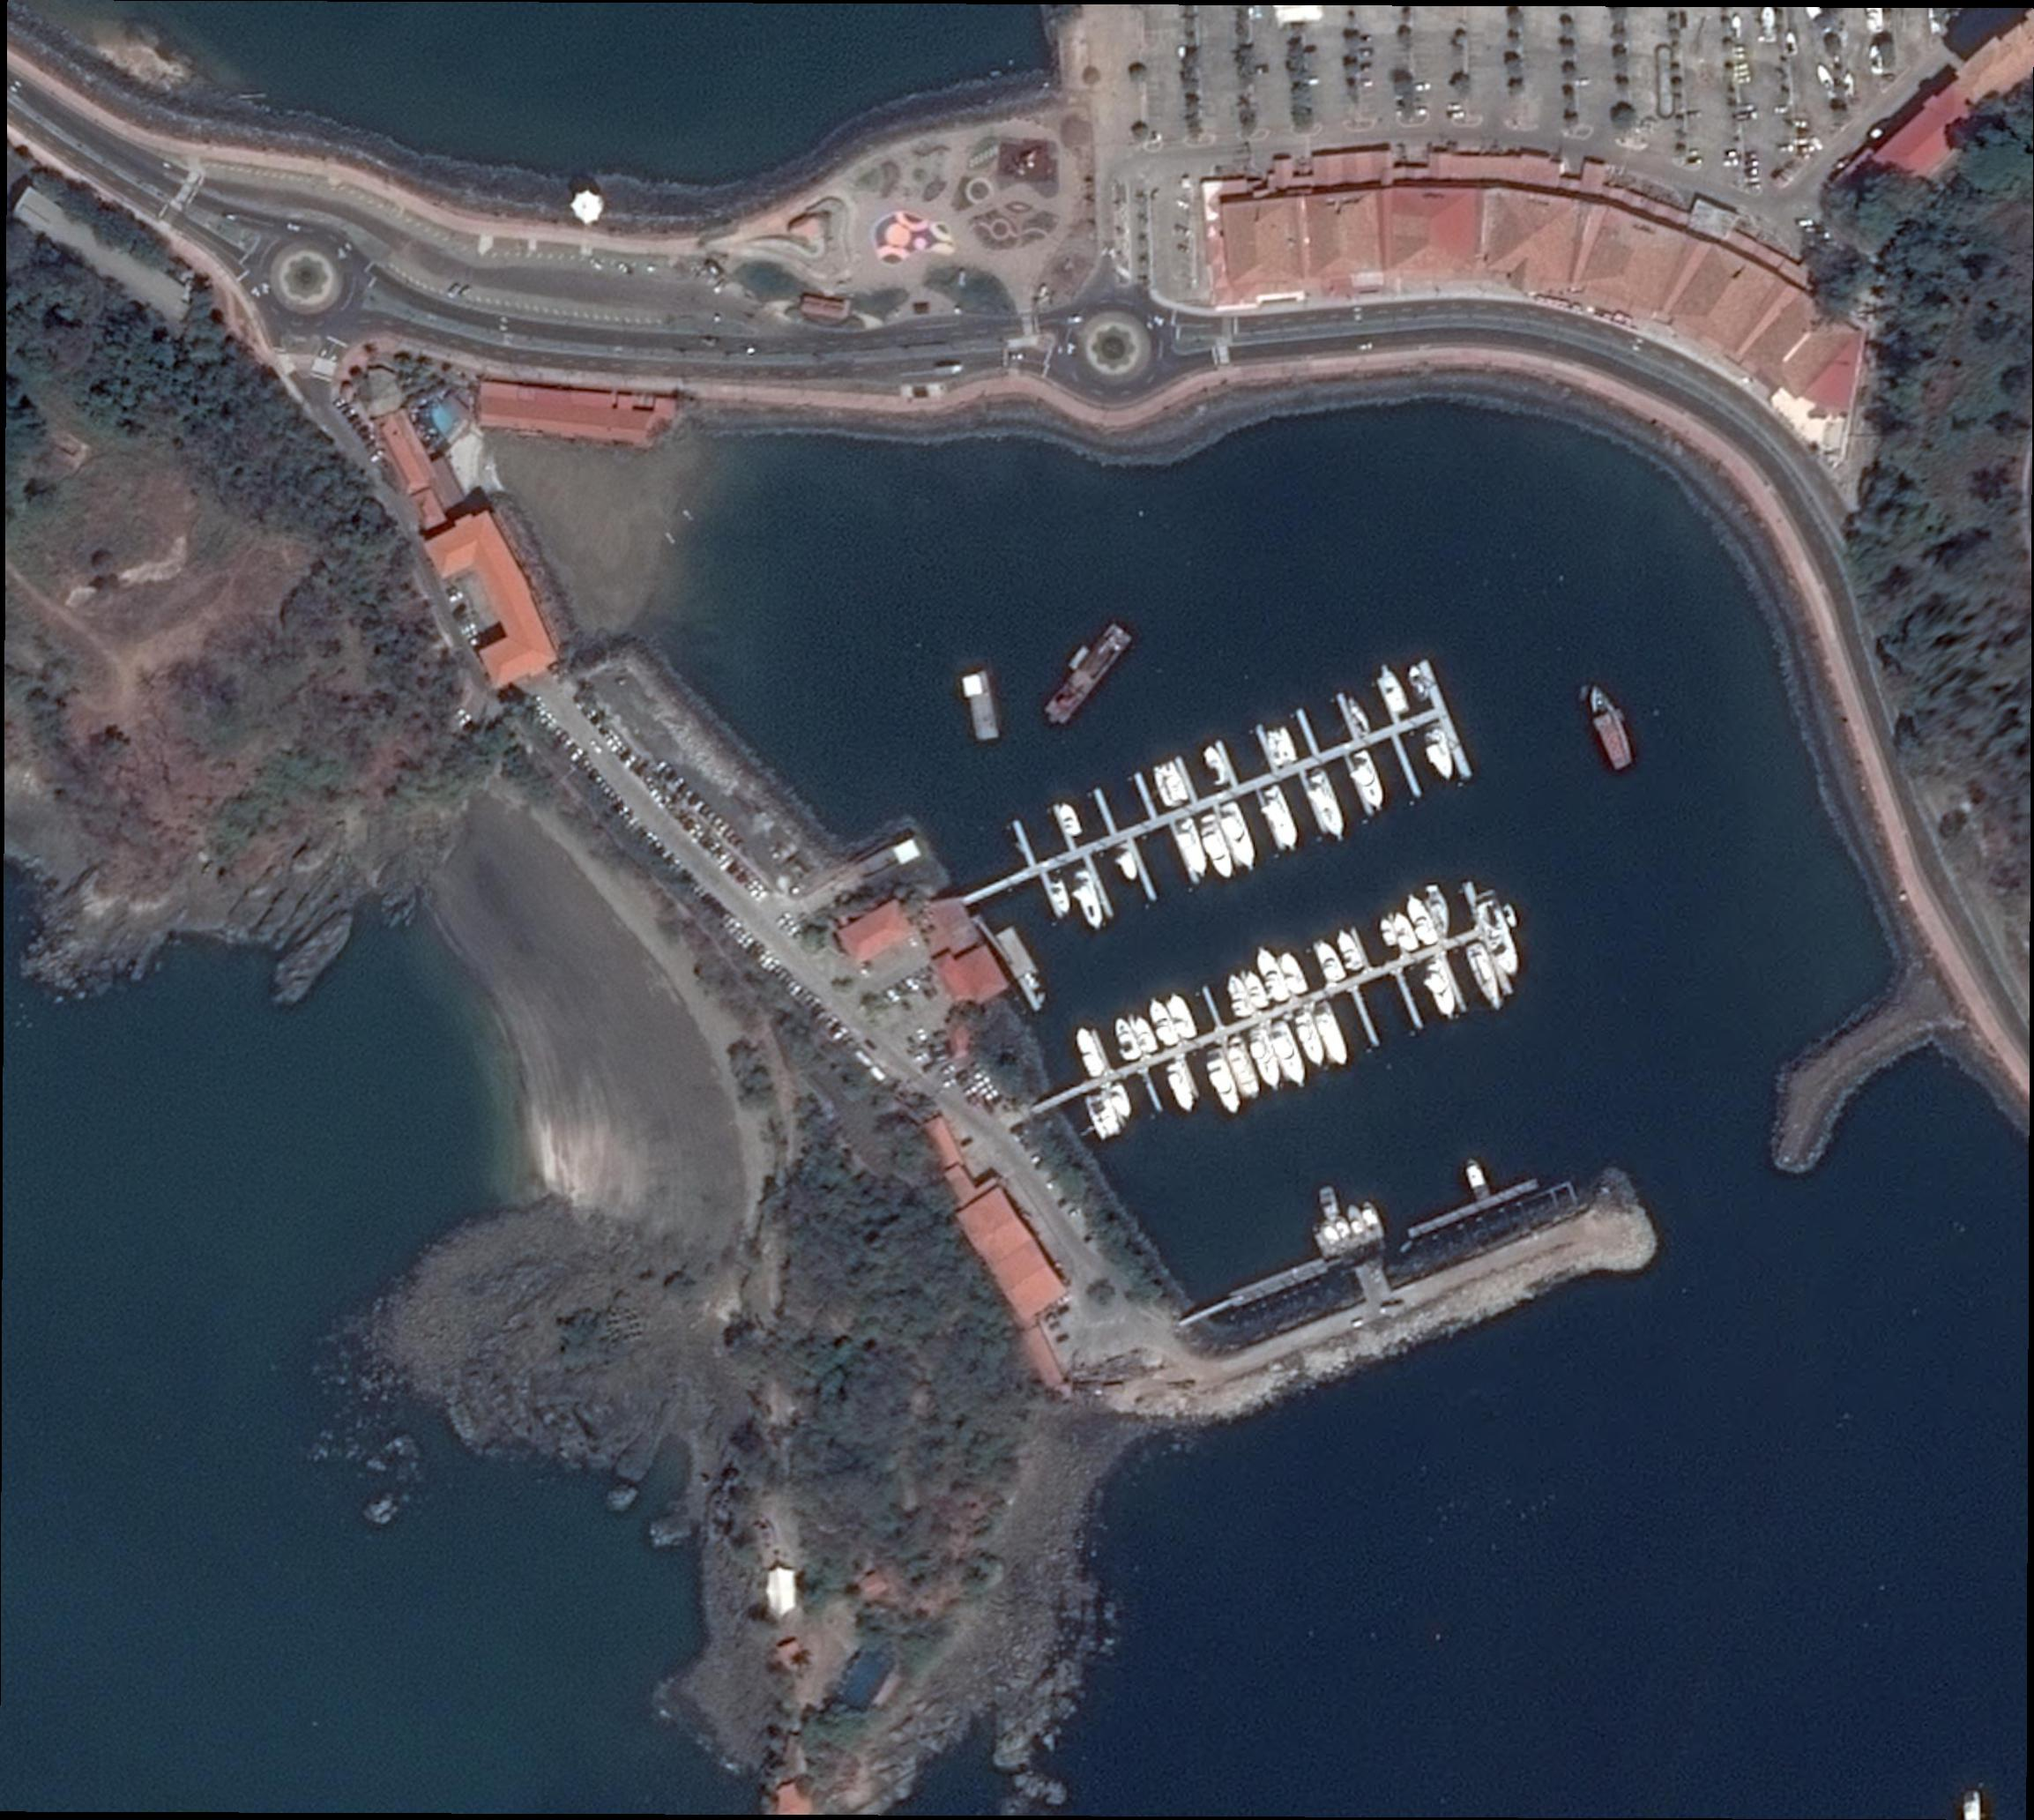harbor: (947, 648, 1482, 975), (1040, 857, 1542, 1174), (1210, 1147, 1674, 1432)
ship: (1038, 617, 1140, 733), (1576, 680, 1641, 775), (1470, 891, 1525, 980), (1300, 764, 1352, 845), (1460, 938, 1509, 1015), (1214, 796, 1263, 871), (1266, 1015, 1312, 1089), (1244, 1021, 1287, 1096), (1345, 745, 1391, 813), (1258, 782, 1303, 850), (961, 668, 1003, 741), (1201, 1042, 1244, 1116), (1194, 812, 1238, 882), (1310, 998, 1354, 1068), (1223, 1033, 1266, 1103), (1421, 957, 1463, 1024), (1066, 868, 1108, 933), (1417, 724, 1463, 784), (1372, 661, 1416, 720), (1172, 815, 1212, 878), (1149, 757, 1194, 812), (1291, 1007, 1330, 1070), (1252, 947, 1293, 1007), (1423, 882, 1461, 940), (1403, 892, 1442, 949), (1163, 1059, 1201, 1116), (1163, 989, 1201, 1044), (1258, 722, 1300, 771), (1145, 994, 1182, 1051), (1196, 740, 1231, 792), (1086, 1089, 1122, 1138), (1221, 971, 1256, 1022), (1073, 1026, 1107, 1079), (1050, 796, 1087, 843), (1310, 938, 1347, 986), (1333, 928, 1368, 975), (1277, 950, 1312, 998), (1461, 1154, 1495, 1203), (1342, 694, 1375, 743), (1389, 910, 1423, 957), (1110, 1015, 1143, 1063), (1043, 866, 1073, 919), (1112, 840, 1147, 884), (1131, 1014, 1163, 1058), (1107, 1080, 1136, 1124), (1242, 968, 1270, 1012), (1344, 1203, 1372, 1246), (1330, 1212, 1358, 1253), (1360, 1198, 1386, 1240), (1316, 1186, 1340, 1224), (1407, 666, 1432, 703), (1319, 1221, 1344, 1258), (1816, 65, 1841, 98), (1375, 917, 1400, 949), (1312, 1231, 1333, 1260), (1869, 44, 1883, 74), (1461, 880, 1477, 906), (1785, 30, 1799, 56), (1505, 901, 1519, 926), (1728, 14, 1741, 40), (1843, 70, 1855, 95)
